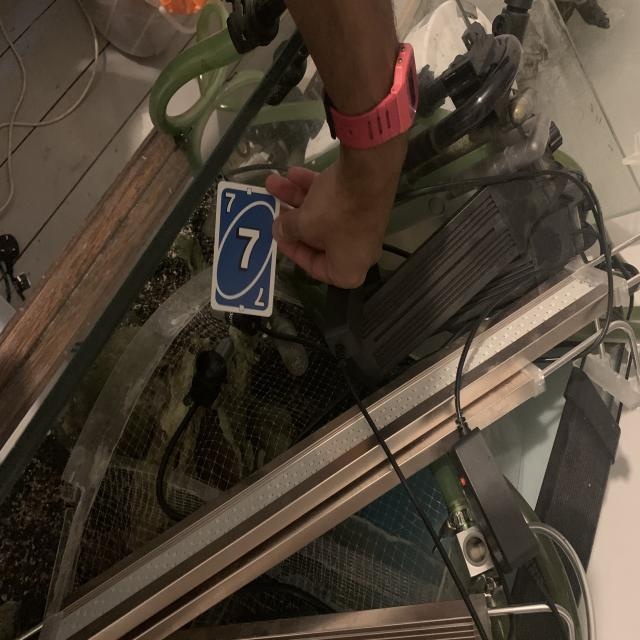lblue-7: (221, 189, 239, 216)
